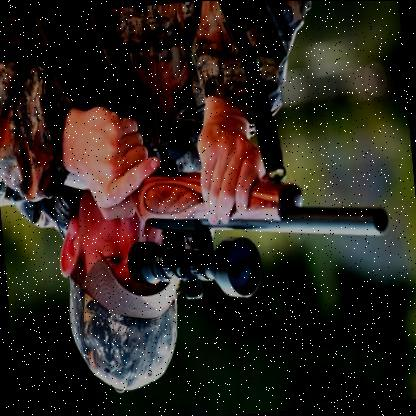rifle: (99, 93, 394, 318)
